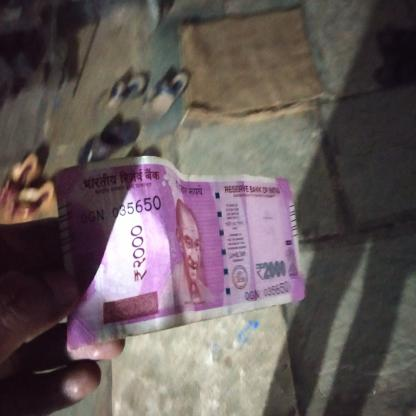New2000Front: (66, 163, 303, 331)
